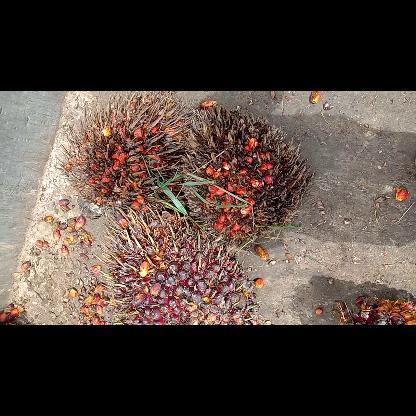TBS masak: (94, 206, 254, 324)
Terlalu masak: (178, 103, 314, 249), (54, 93, 186, 219)
